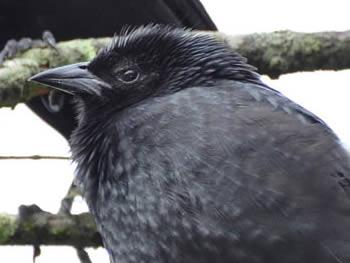grauna: (27, 21, 350, 261)
